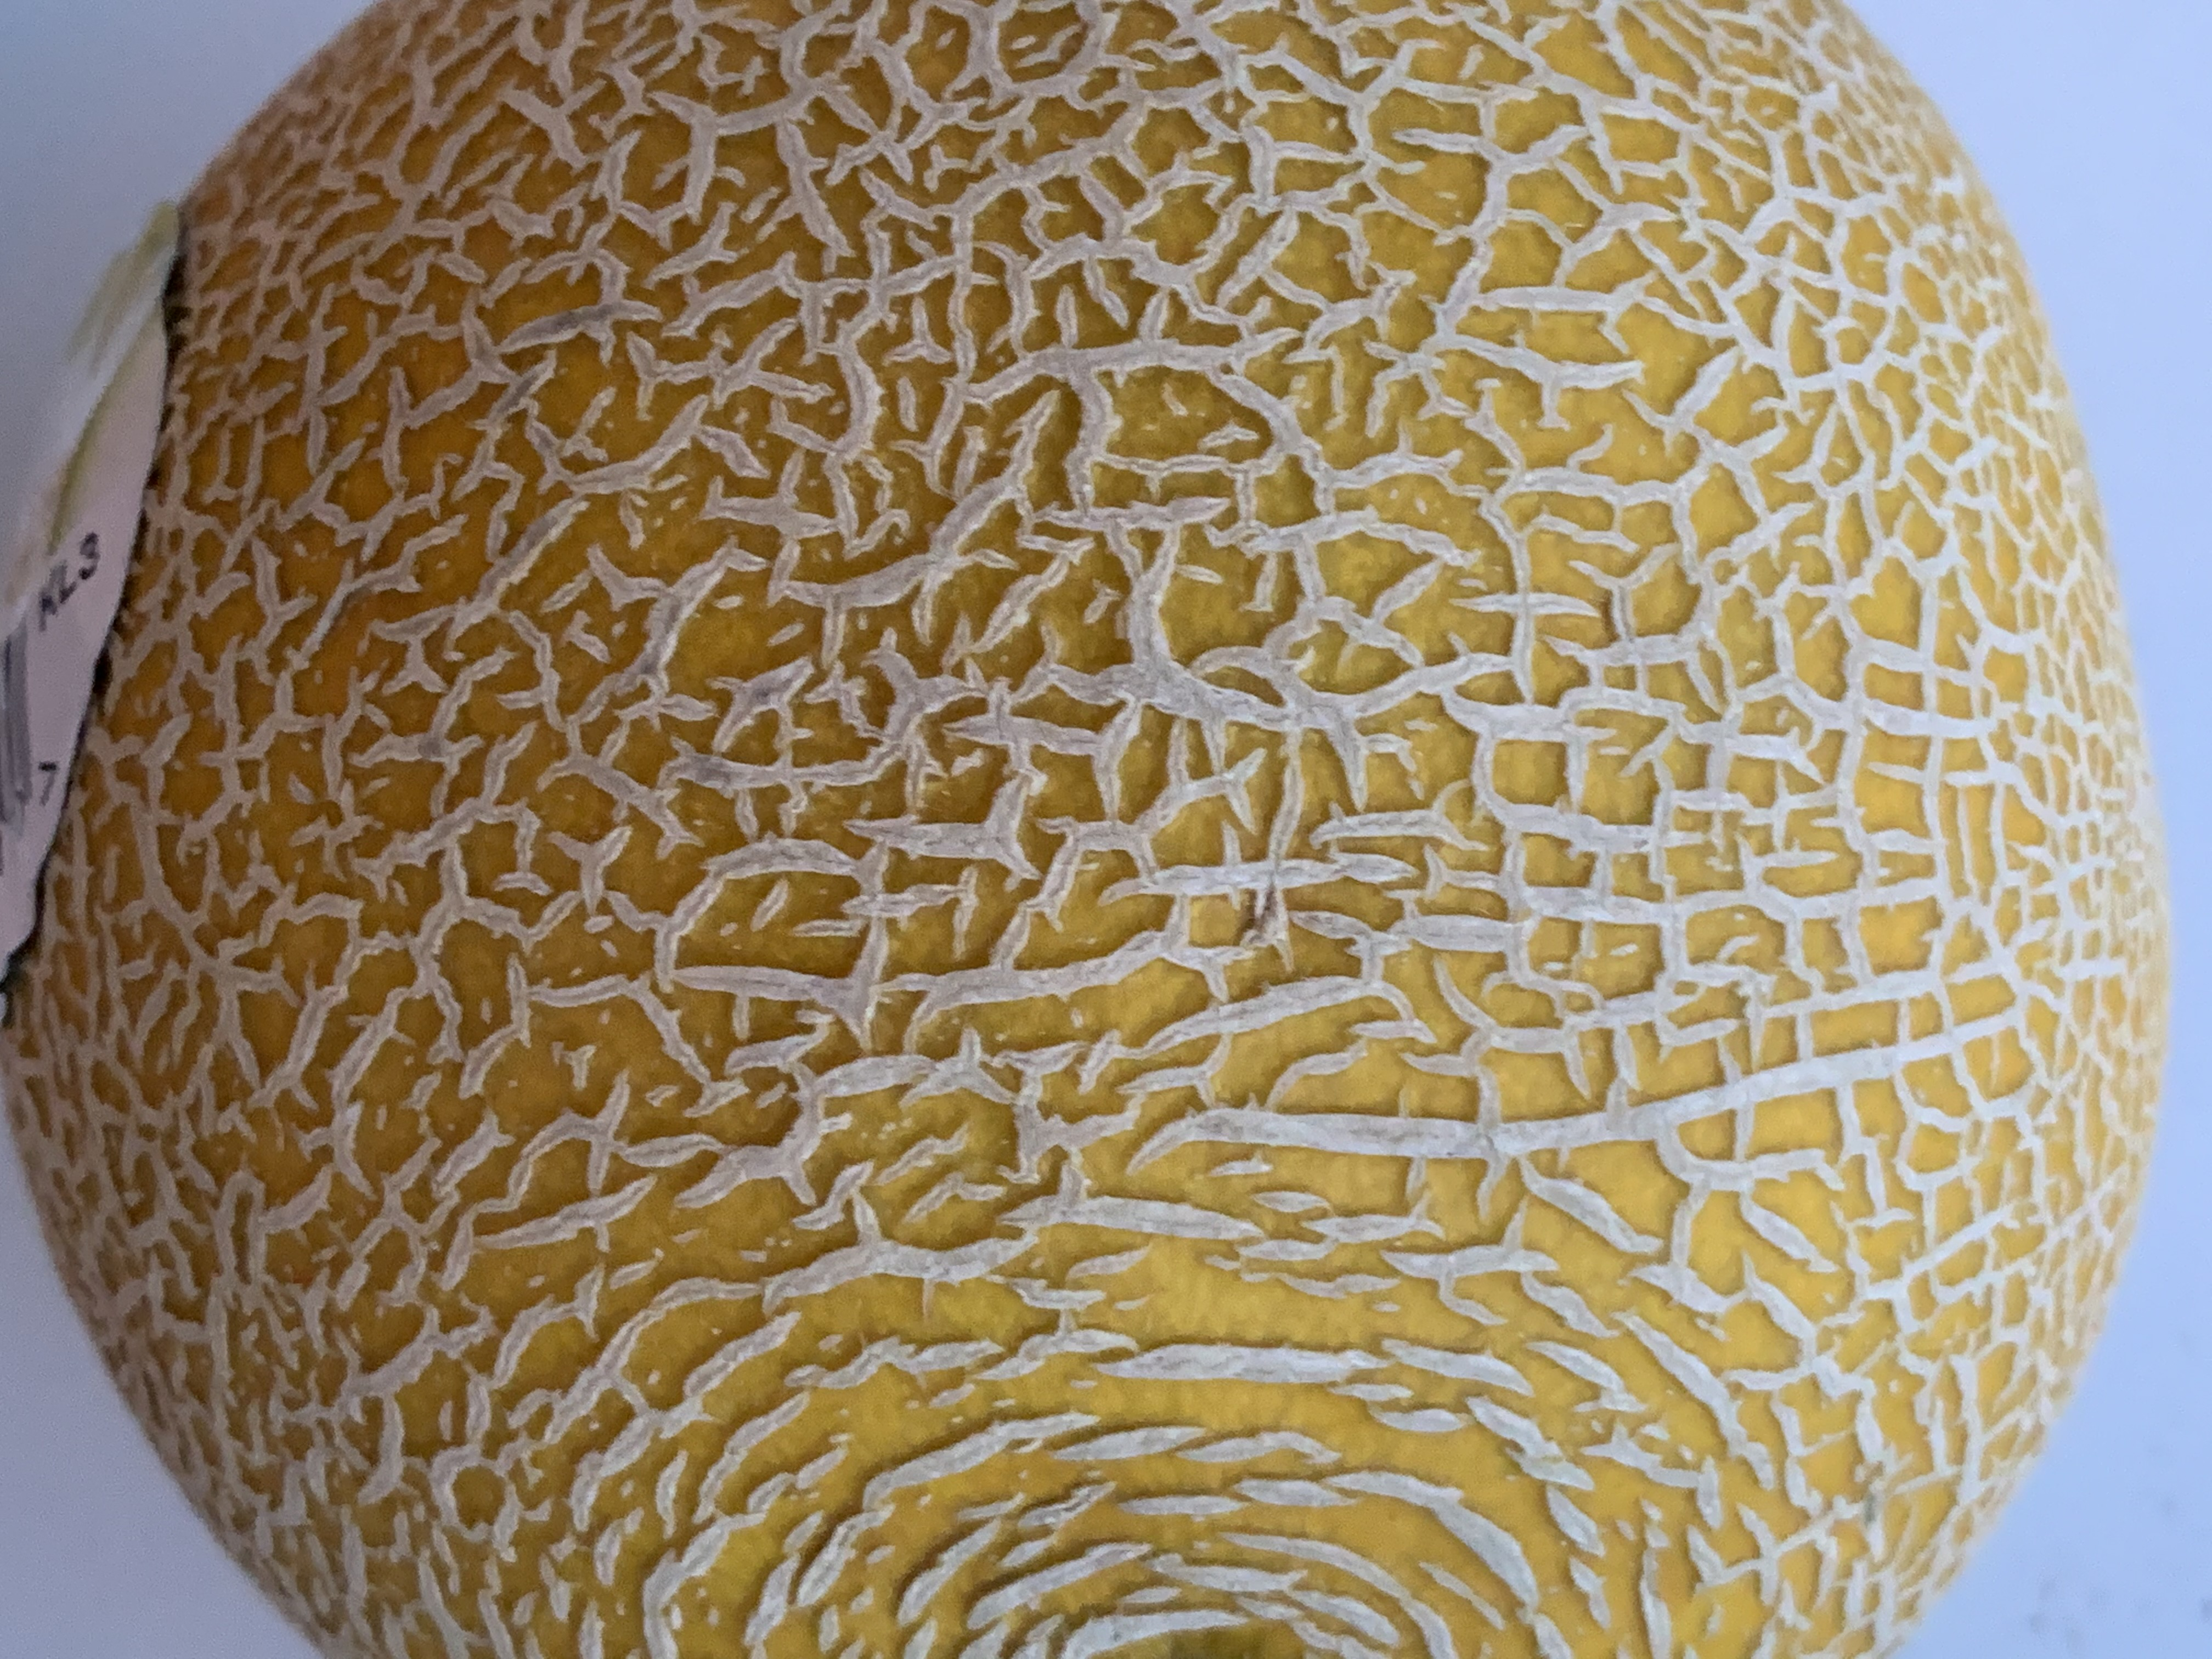galia melon: (21, 16, 2212, 1626)
